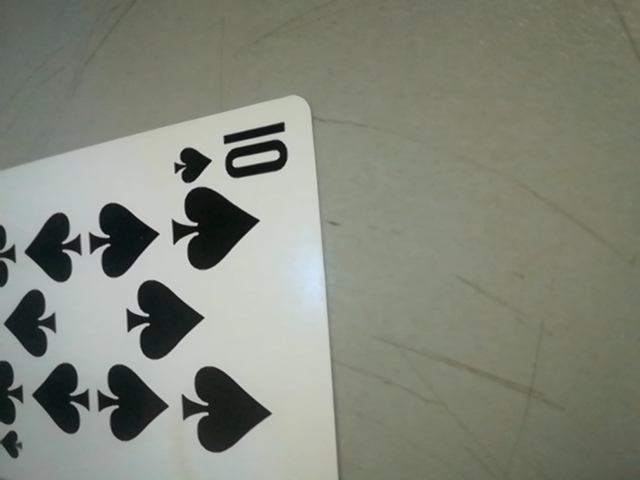ht 10: (173, 116, 287, 194)
